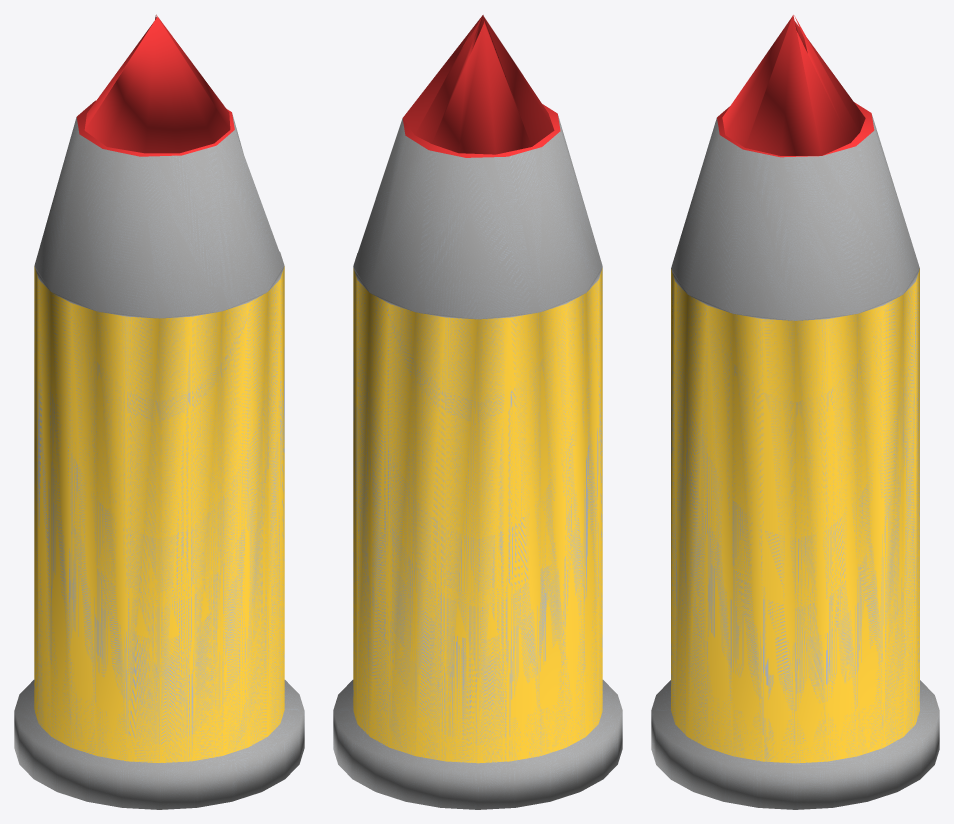
File: bullet.dae
The picture shows the model from 3 angles, left to right: view 1: azimuth 30°, elevation 25°; view 2: azimuth 150°, elevation 25°; view 3: azimuth 270°, elevation 25°; orthographic projection.
Parts seen in each view (by area): view 1: SketchUp (×5); view 2: SketchUp (×5); view 3: SketchUp (×5).
Part boxes in pixels (<box>): SketchUp (×5): <box>14,14,304,809</box>; SketchUp (×5): <box>333,15,622,809</box>; SketchUp (×5): <box>651,15,939,809</box>.
Bounding box in the file's own units: 17.09 × 17.09 × 47.88.
